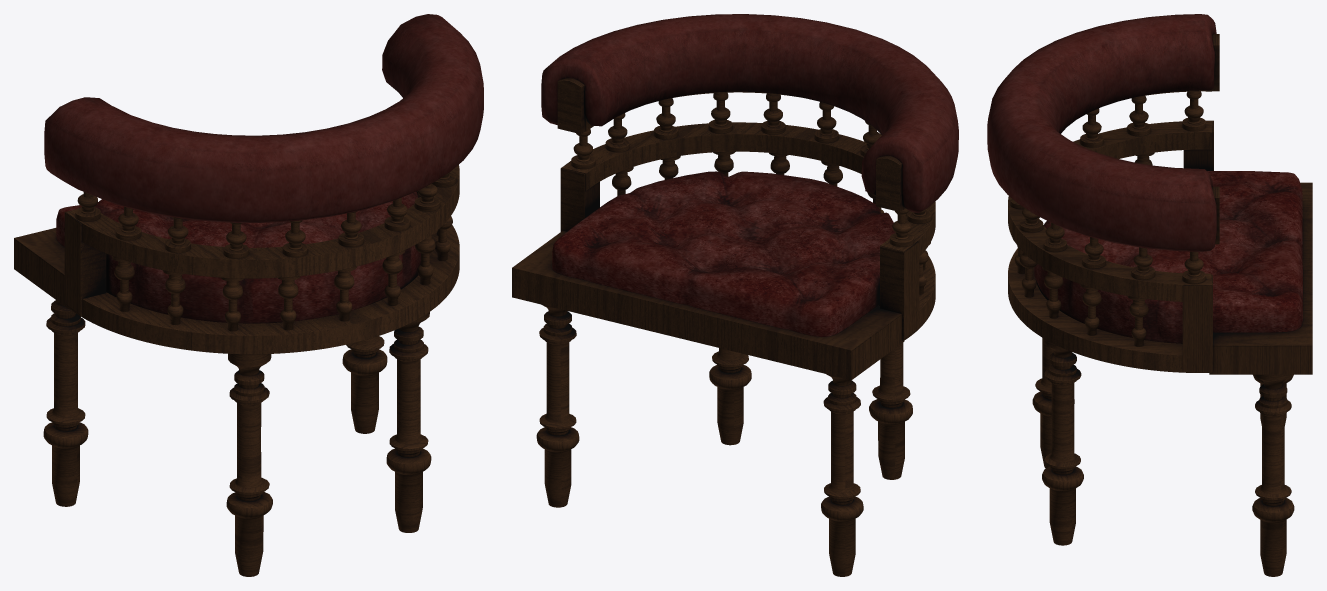
3 views of the same model, side by side, from view 1: azimuth 30°, elevation 25°; view 2: azimuth 150°, elevation 25°; view 3: azimuth 270°, elevation 25° (orthographic). The views are drawn at different scales.
Parts seen in each view (by area): view 1: Leather Top, Chair Arc, Wood Legs, Leather Seating, Chair Details, Wood Front; view 2: Leather Seating, Leather Top, Wood Front, Wood Legs, Chair Arc, Chair Details; view 3: Leather Top, Leather Seating, Chair Arc, Wood Legs, Wood Front, Chair Details.
Boxes of the visible parts, x1,y1,x2,y2 form: Leather Top: (44, 14, 483, 222); Chair Arc: (66, 165, 459, 354); Wood Legs: (43, 300, 431, 576); Leather Seating: (56, 192, 420, 323); Chair Details: (75, 172, 455, 331); Wood Front: (14, 191, 420, 315); Leather Seating: (552, 171, 895, 336); Leather Top: (541, 14, 958, 213); Wood Front: (512, 78, 919, 380); Wood Legs: (536, 304, 912, 576); Chair Arc: (562, 91, 935, 340); Chair Details: (571, 92, 931, 294); Leather Top: (987, 14, 1216, 251); Leather Seating: (1034, 171, 1302, 343); Chair Arc: (1008, 90, 1212, 372); Wood Legs: (1032, 338, 1294, 576); Wood Front: (1182, 34, 1312, 374); Chair Details: (1010, 91, 1205, 346).
Size of the model in its own units: 3.22 by 3.31 by 2.39.
